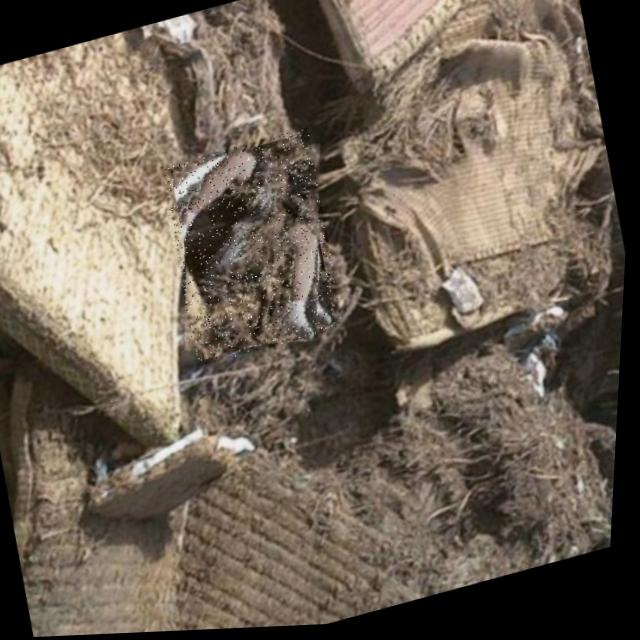Person in Rubble: (153, 128, 354, 370)
